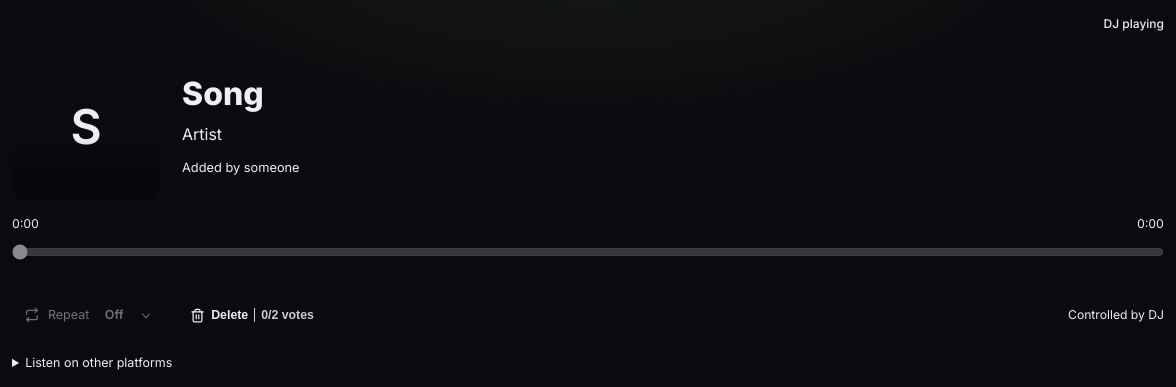
Test: NowPlaying shared playback › keeps Delete labelled consistently and increases the vote count while pending
This screenshot has width=1176, height=387.
Click the button with aria-label "delete song".
click(252, 315)  # box [179,297,325,333]
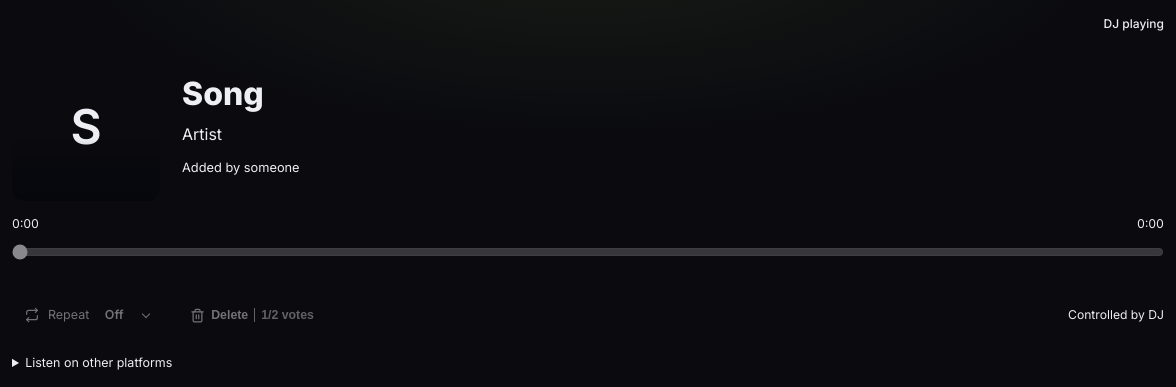
Check: the button with aria-label "delete song" is disabled, box [179,297,325,333]
Check: the button with aria-label "delete song" shows "1/2 votes", box [179,297,325,333]
